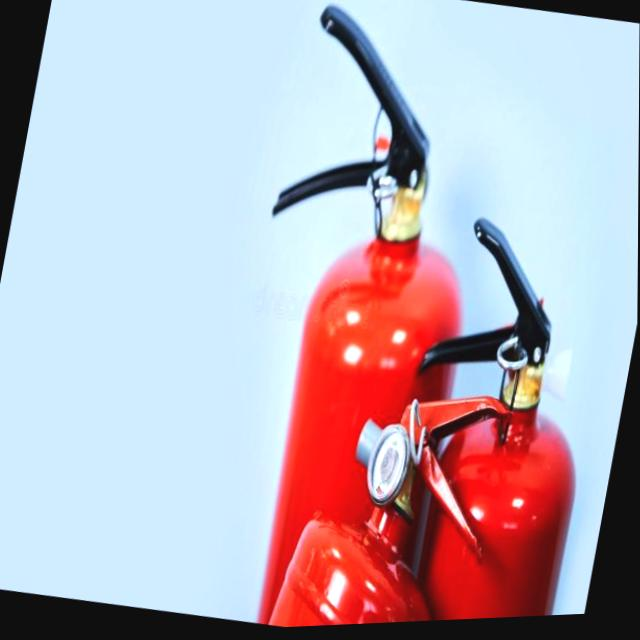FireExtinguisher: (193, 0, 530, 633), (364, 200, 631, 627), (258, 362, 522, 631)
